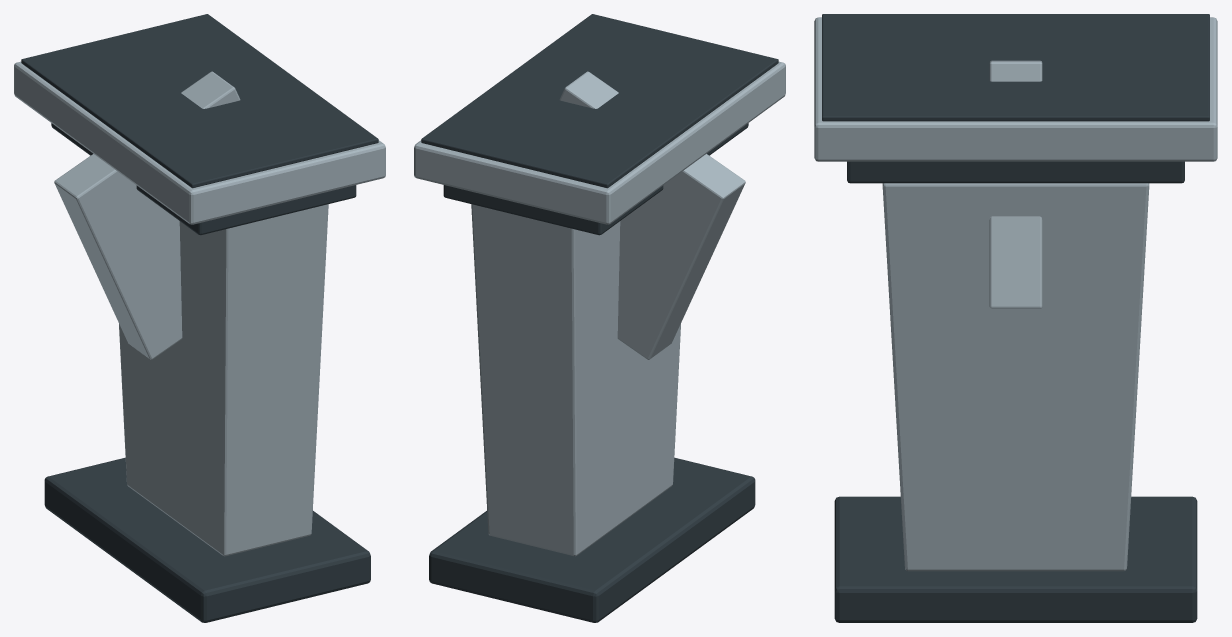
The model's file is Nocturne_PlatformButtress_A.fbx.
3 views of the same model, side by side, from view 1: azimuth 30°, elevation 25°; view 2: azimuth 150°, elevation 25°; view 3: azimuth 270°, elevation 25° (orthographic). The views are drawn at different scales.
Visible parts, largest first — view 1: Nocturne_PlatformButtress_A; view 2: Nocturne_PlatformButtress_A; view 3: Nocturne_PlatformButtress_A.
Boxes of the visible parts, left/top/right/bottom form: Nocturne_PlatformButtress_A: left=14, top=14, right=385, bottom=622; Nocturne_PlatformButtress_A: left=414, top=14, right=785, bottom=622; Nocturne_PlatformButtress_A: left=814, top=14, right=1217, bottom=622.
Bounding box in the file's own units: 6.05 × 11.48 × 8.
